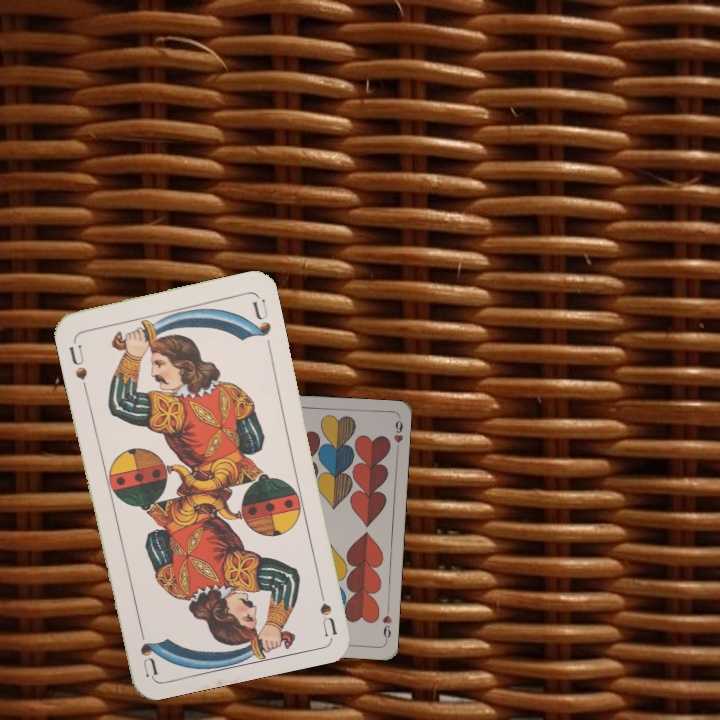H9: (378, 603, 394, 644)
SU: (313, 578, 339, 637), (65, 334, 90, 392)
